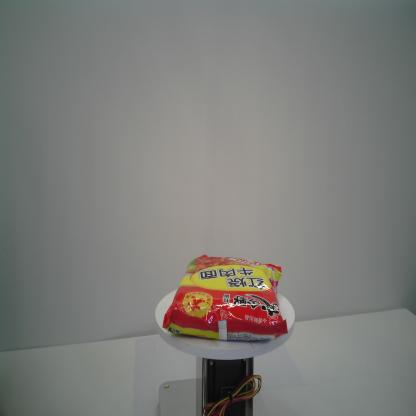Instant Noodles: (161, 254, 289, 342)
